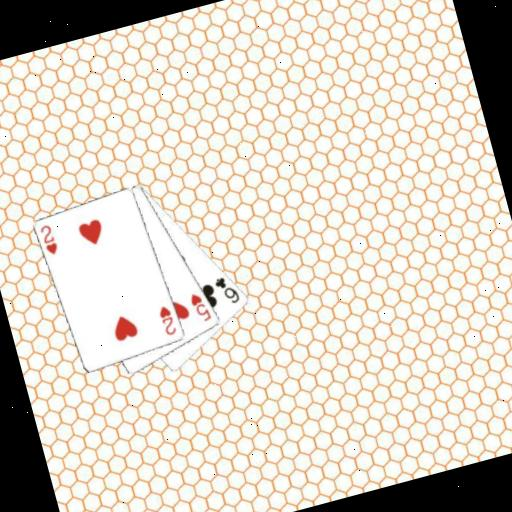2H: (154, 301, 179, 339), (36, 220, 61, 258)
5H: (186, 288, 214, 326)
6C: (210, 270, 242, 309)
